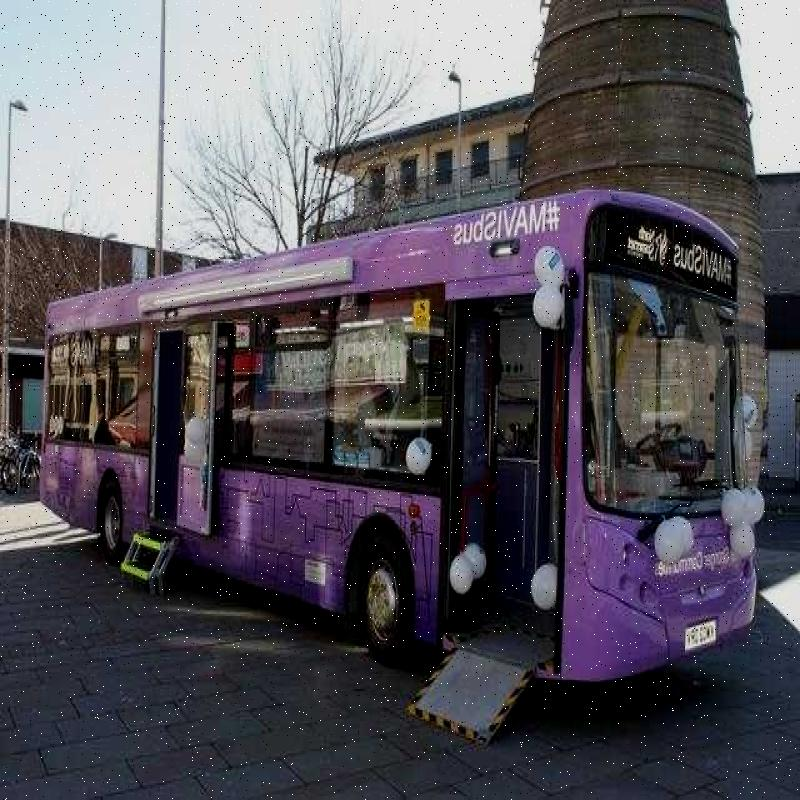bus: (24, 159, 761, 706)
